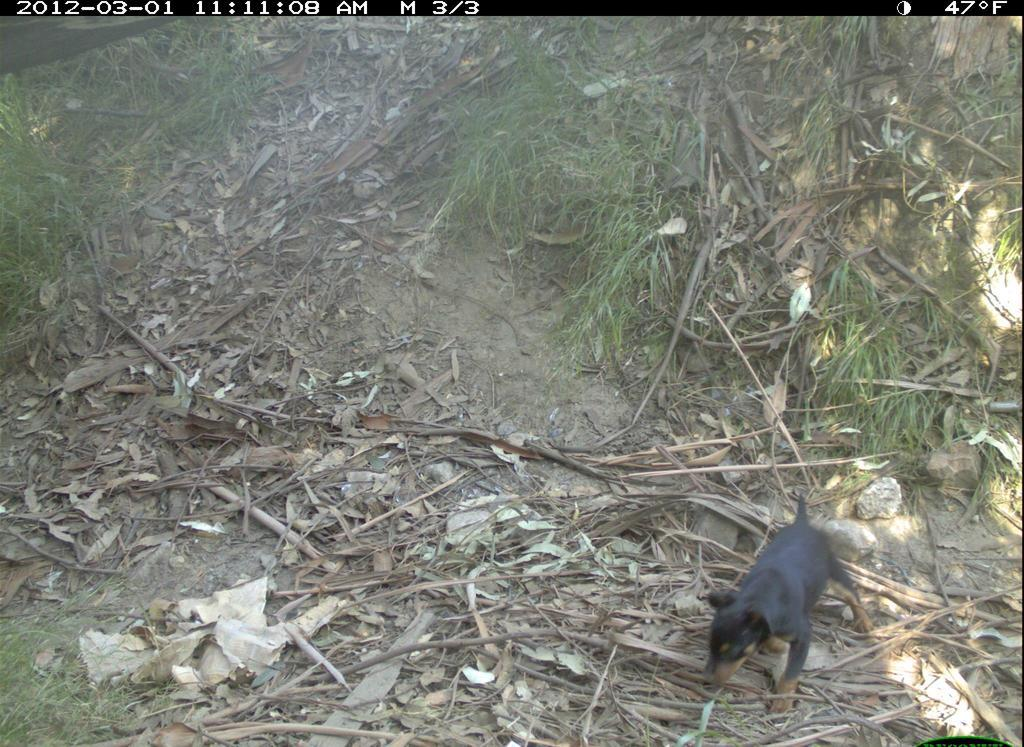dog: (698, 484, 879, 713)
